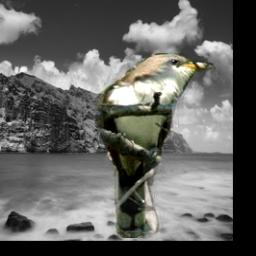Cuckoo: (94, 54, 215, 239)
